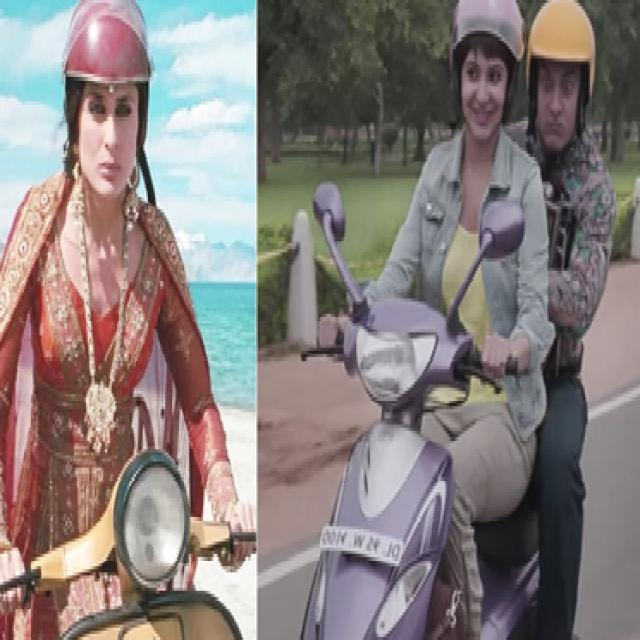Helmet: (55, 0, 160, 200), (444, 0, 532, 145), (526, 0, 599, 154)
